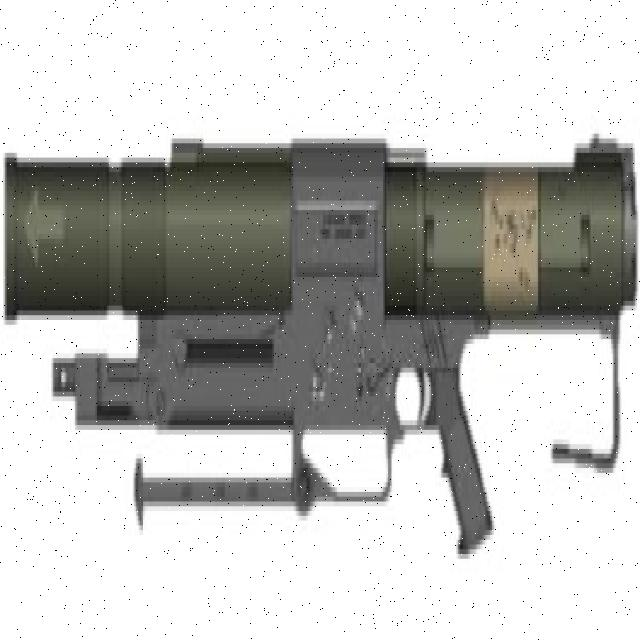bazooka: (1, 114, 640, 581)
